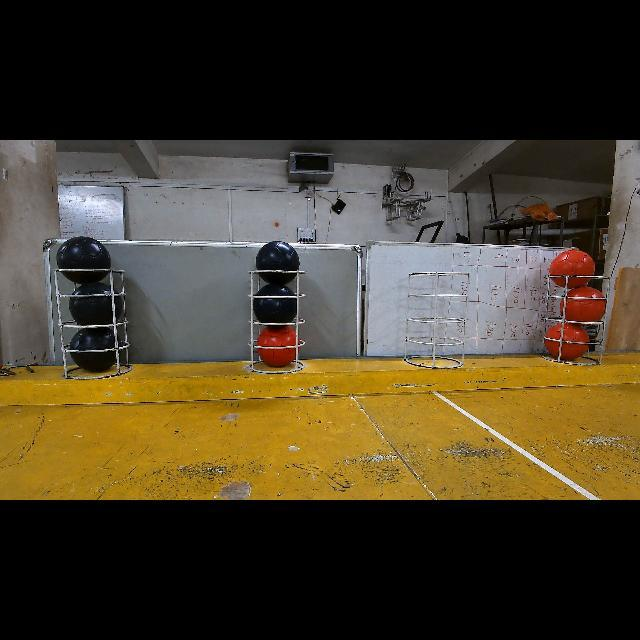P: (56, 236, 113, 286), (68, 327, 122, 372), (70, 282, 122, 327), (255, 241, 300, 285), (252, 282, 296, 324)
R: (257, 326, 300, 368), (550, 250, 595, 289), (545, 322, 590, 360), (559, 286, 606, 322)
S: (47, 262, 131, 378), (402, 266, 468, 376), (242, 269, 310, 371), (543, 266, 609, 364)
